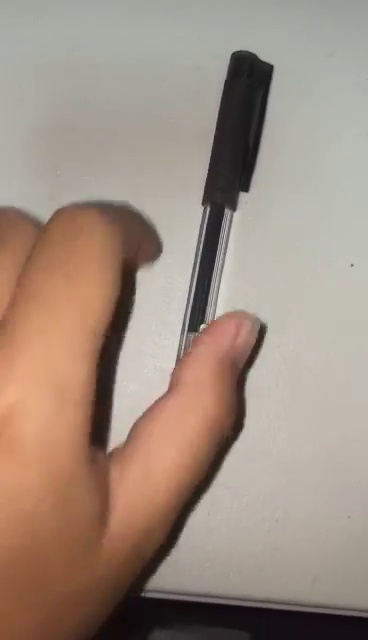ballpen: (171, 50, 273, 398)
hand: (1, 201, 267, 640)
